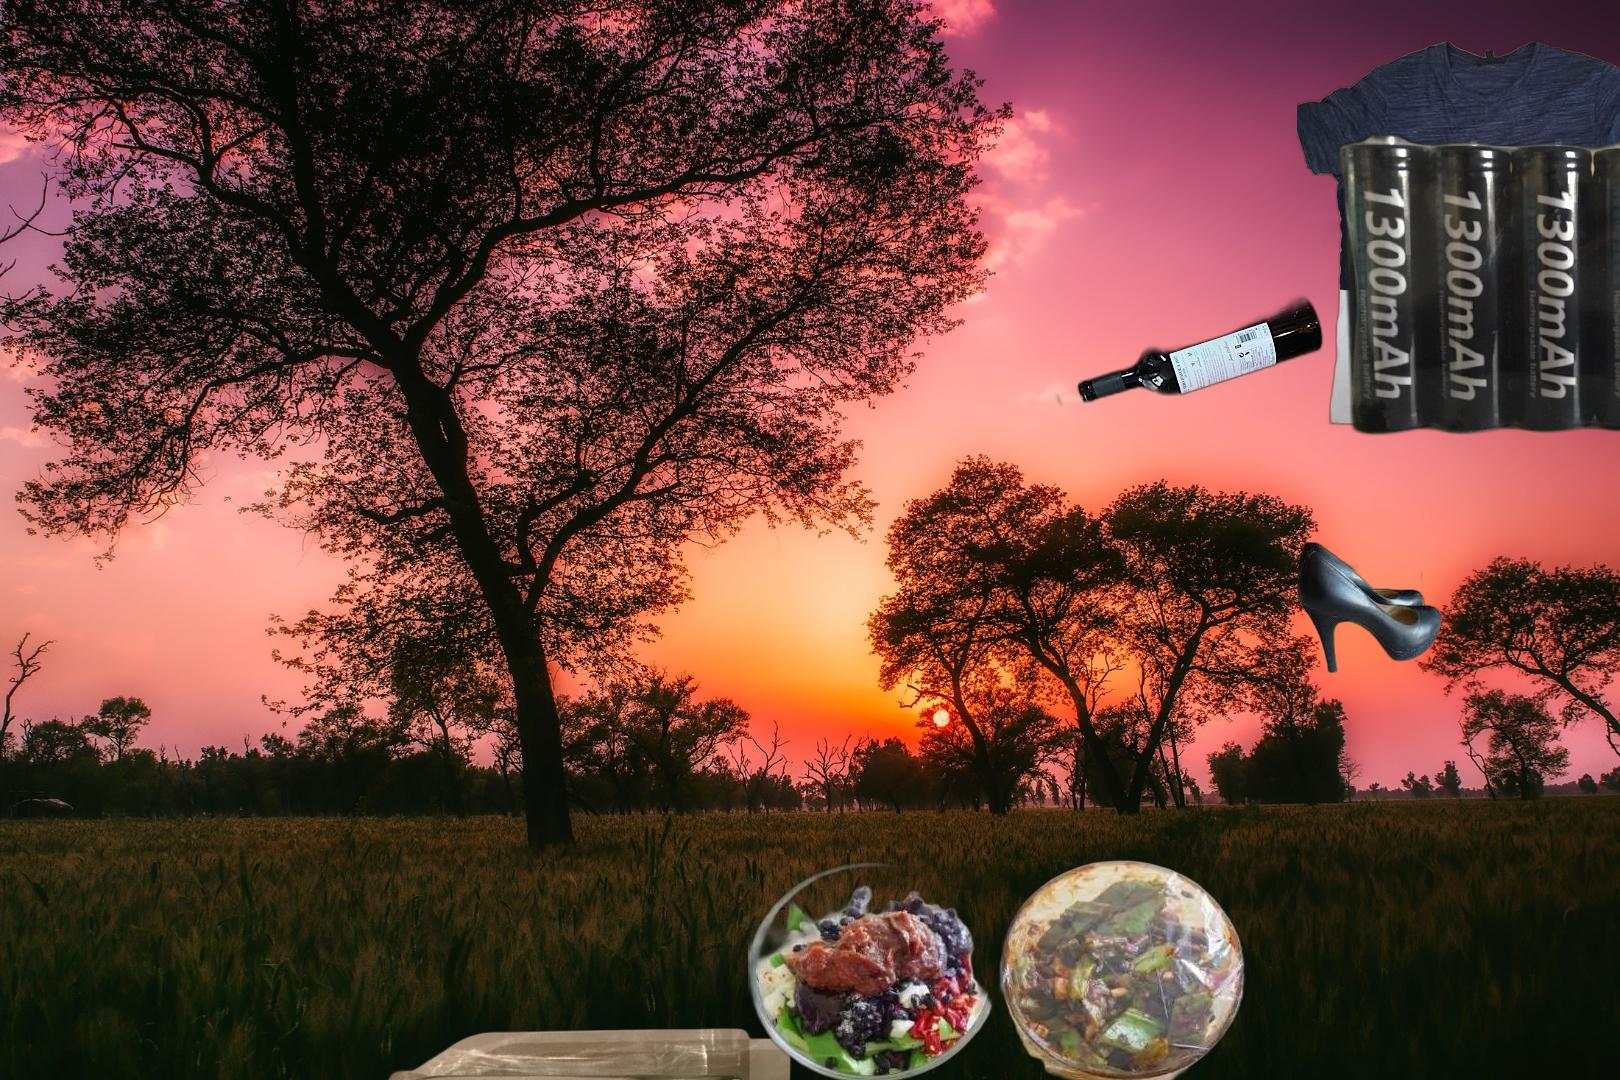battery: (1323, 96, 1620, 439)
biological: (749, 835, 1248, 1080), (834, 1038, 1334, 1080)
clothes: (1297, 35, 1620, 430)
glass: (1053, 293, 1327, 410), (368, 1025, 796, 1080)
shoes: (1295, 539, 1445, 676)
